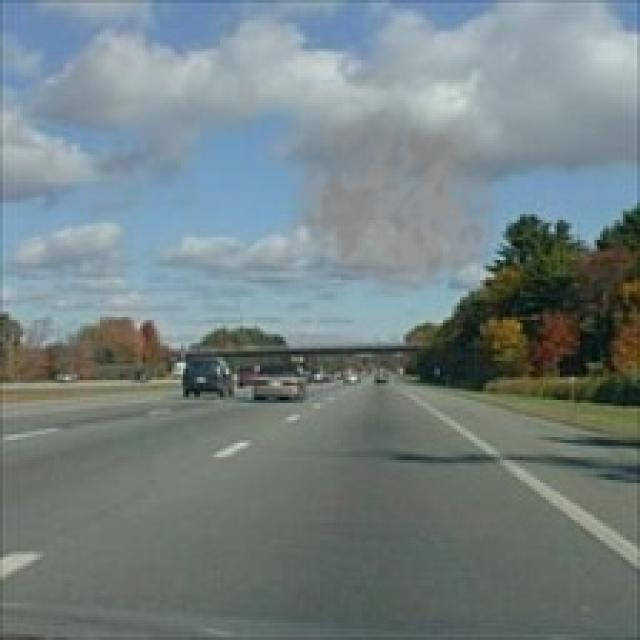Smoke: (272, 83, 508, 300)
